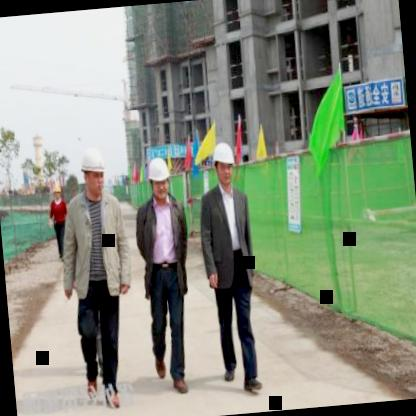helmet: (77, 140, 111, 202), (210, 136, 238, 192), (143, 153, 175, 201), (51, 180, 64, 202)
